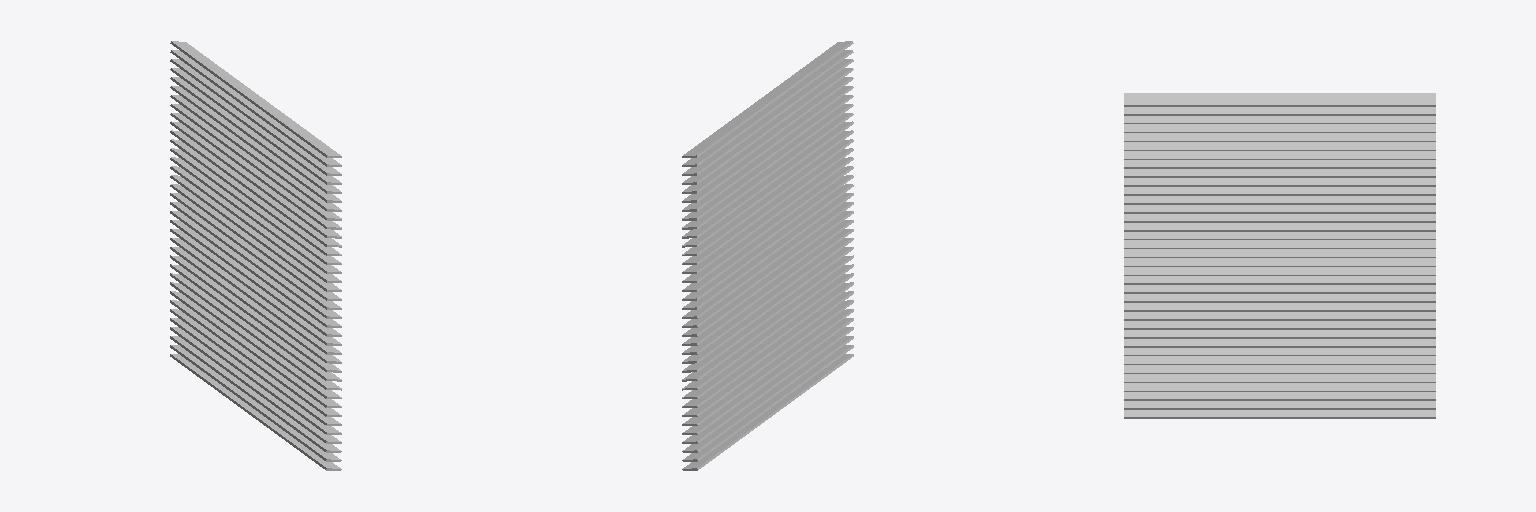
The model's file is shutter.obj.
3 views of the same model, side by side, from view 1: azimuth 30°, elevation 25°; view 2: azimuth 150°, elevation 25°; view 3: azimuth 270°, elevation 25° (orthographic).
Parts seen in each view (by area): view 1: shutter_Cube.001; view 2: shutter_Cube.001; view 3: shutter_Cube.001.
Boxes of the visible parts, box(x1,y1,x2,y2) form: shutter_Cube.001: box(170, 41, 341, 470); shutter_Cube.001: box(682, 41, 853, 470); shutter_Cube.001: box(1124, 93, 1435, 418).
Bounding box in the file's own units: 0.4268 × 8.07 × 7.18.